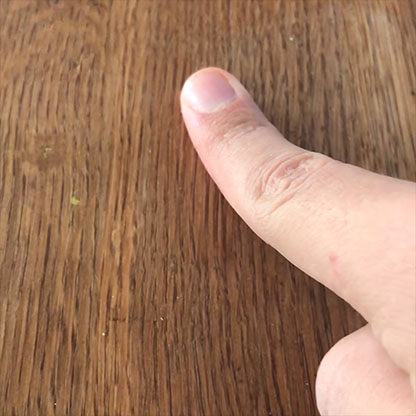fingertip: (164, 53, 272, 143)
